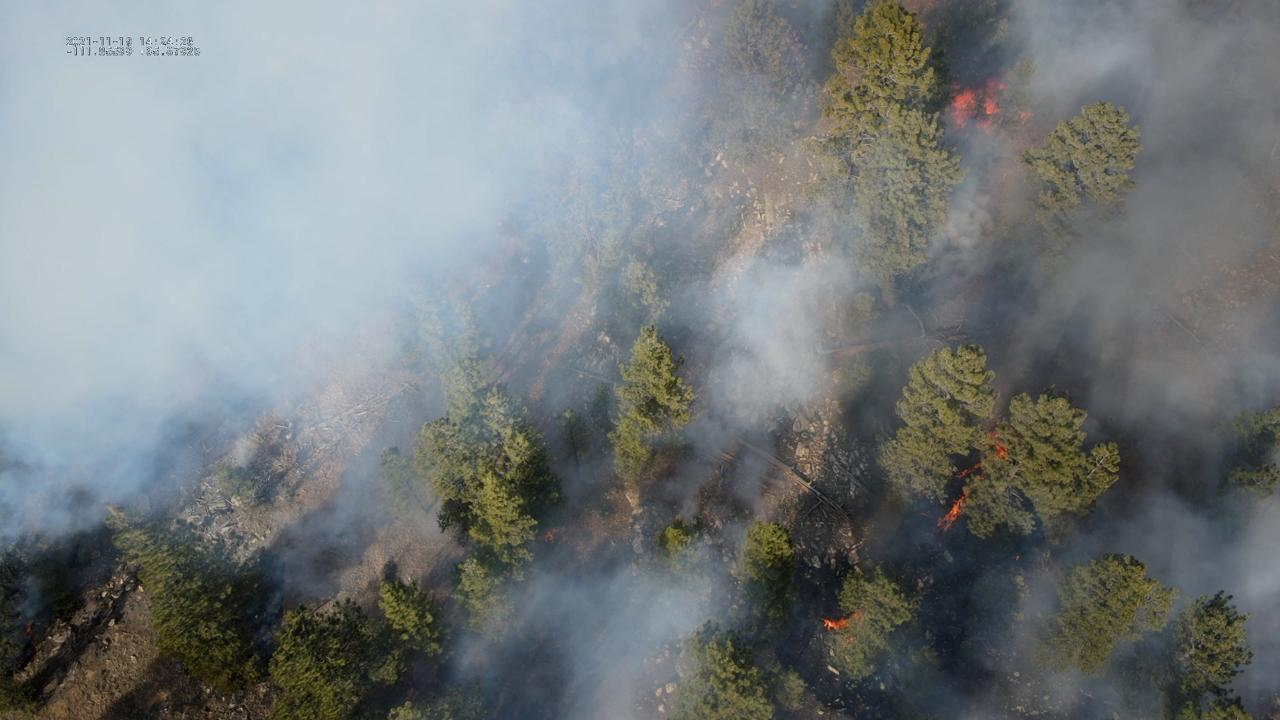fire: (936, 75, 1007, 128), (934, 494, 967, 532), (820, 610, 860, 632), (984, 429, 1010, 458), (950, 459, 983, 478), (1018, 111, 1034, 124)
smoke: (0, 0, 1280, 720)
